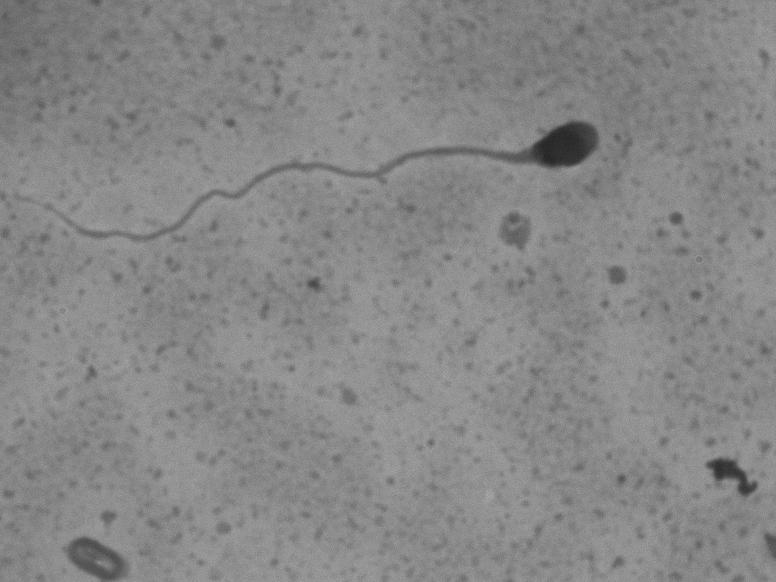Normal: (13, 103, 616, 260)
